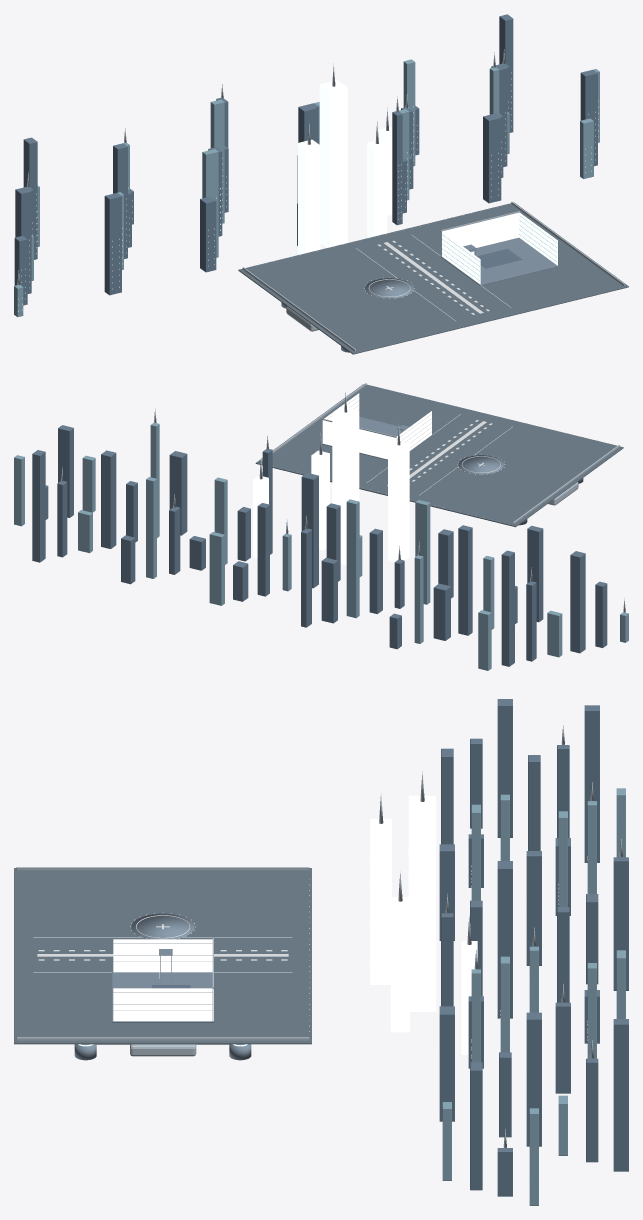
Rendered from helicarrier.glb.
3 views of the same model, one above another, from view 1: azimuth 30°, elevation 25°; view 2: azimuth 150°, elevation 25°; view 3: azimuth 270°, elevation 25° (orthographic). The views are drawn at different scales.
Visible parts, largest first — view 1: Helicarrier main deck, Manhattan landmark tower.001, Manhattan landmark tower, Stark penthouse lower floor, Manhattan landmark tower.002, Manhattan skyscraper.007, Manhattan skyscraper.035, Penthouse rear glass, Manhattan skyscraper.014, Manhattan skyscraper.028, Manhattan skyscraper.002, Manhattan skyscraper.043 (+17 smaller); view 2: Helicarrier main deck, Manhattan landmark tower.001, Manhattan landmark tower, Manhattan skyscraper.018, Manhattan skyscraper.010, Manhattan skyscraper.002, Manhattan skyscraper.005, Manhattan skyscraper.041, Manhattan skyscraper.038, Manhattan skyscraper.023, Manhattan skyscraper.015, Manhattan skyscraper.035 (+39 smaller); view 3: Helicarrier main deck, Manhattan landmark tower.001, Manhattan landmark tower, Penthouse glass side wall.001, Penthouse glass side wall, Manhattan landmark tower.002, Manhattan skyscraper.041, Manhattan skyscraper.023, Manhattan skyscraper.005, Stark penthouse lower floor, Manhattan skyscraper.002, Manhattan skyscraper.038 (+31 smaller).
Boxes of the visible parts, left/top/right/bottom form: Helicarrier main deck: left=238, top=202, right=628, bottom=354; Manhattan landmark tower.001: left=319, top=80, right=347, bottom=247; Manhattan landmark tower: left=298, top=139, right=320, bottom=254; Stark penthouse lower floor: left=440, top=237, right=558, bottom=285; Manhattan landmark tower.002: left=367, top=139, right=387, bottom=237; Manhattan skyscraper.007: left=104, top=193, right=121, bottom=295; Manhattan skyscraper.035: left=483, top=113, right=501, bottom=203; Penthouse rear glass: left=443, top=212, right=519, bottom=247; Manhattan skyscraper.014: left=200, top=196, right=216, bottom=272; Manhattan skyscraper.028: left=392, top=111, right=402, bottom=225; Manhattan skyscraper.002: left=15, top=187, right=31, bottom=293; Manhattan skyscraper.043: left=580, top=69, right=597, bottom=166; Helicarrier main deck: left=255, top=384, right=623, bottom=527; Manhattan landmark tower.001: left=332, top=406, right=359, bottom=565; Manhattan landmark tower: left=388, top=440, right=409, bottom=561; Manhattan skyscraper.018: left=346, top=499, right=359, bottom=618; Manhattan skyscraper.010: left=458, top=525, right=472, bottom=635; Manhattan skyscraper.002: left=570, top=551, right=585, bottom=653; Manhattan skyscraper.005: left=501, top=550, right=514, bottom=666; Manhattan skyscraper.041: left=32, top=450, right=45, bottom=562; Manhattan skyscraper.038: left=101, top=450, right=116, bottom=548; Manhattan skyscraper.023: left=301, top=472, right=318, bottom=588; Manhattan skyscraper.015: left=415, top=500, right=430, bottom=604; Manhattan skyscraper.035: left=169, top=451, right=187, bottom=535; Helicarrier main deck: left=14, top=868, right=311, bottom=1044; Manhattan landmark tower.001: left=408, top=795, right=436, bottom=1011; Manhattan landmark tower: left=370, top=818, right=391, bottom=984; Penthouse glass side wall.001: left=113, top=988, right=212, bottom=1021; Penthouse glass side wall: left=113, top=939, right=212, bottom=972; Manhattan landmark tower.002: left=390, top=897, right=409, bottom=1032; Manhattan skyscraper.041: left=613, top=1019, right=628, bottom=1171; Manhattan skyscraper.023: left=497, top=861, right=512, bottom=1018; Manhattan skyscraper.005: left=584, top=705, right=599, bottom=862; Stark penthouse lower floor: left=112, top=971, right=213, bottom=1022; Manhattan skyscraper.002: left=497, top=699, right=512, bottom=837; Manhattan skyscraper.038: left=526, top=1012, right=541, bottom=1146.
Bounding box in the file's own units: 335 × 96 × 223.
